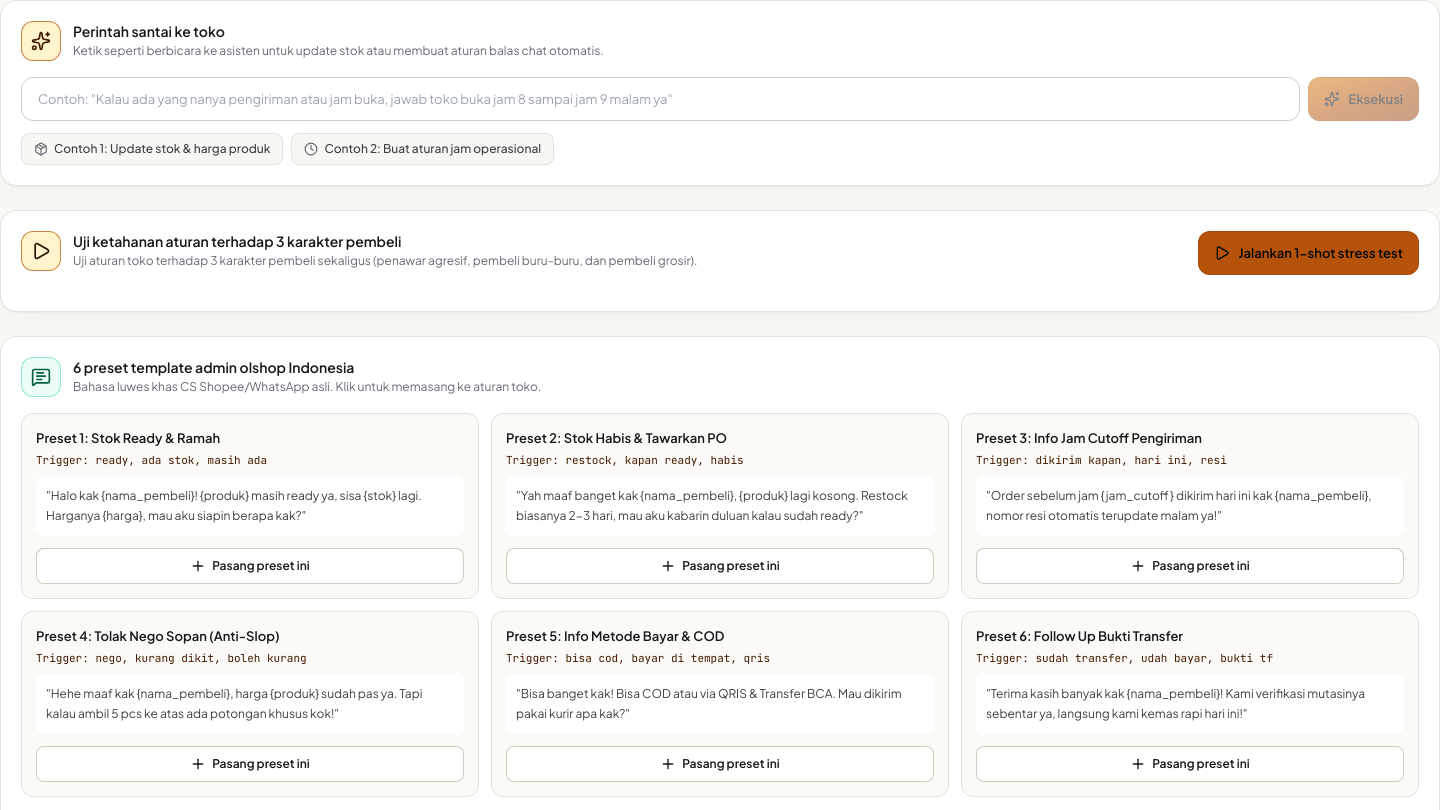
it: StoreStudio › sandbox: sukses menampilkan 3 persona
This screenshot has width=1440, height=810.
Click the button "Jalankan 1-shot stress test".
click(1309, 253)  # box [1198,231,1419,275]
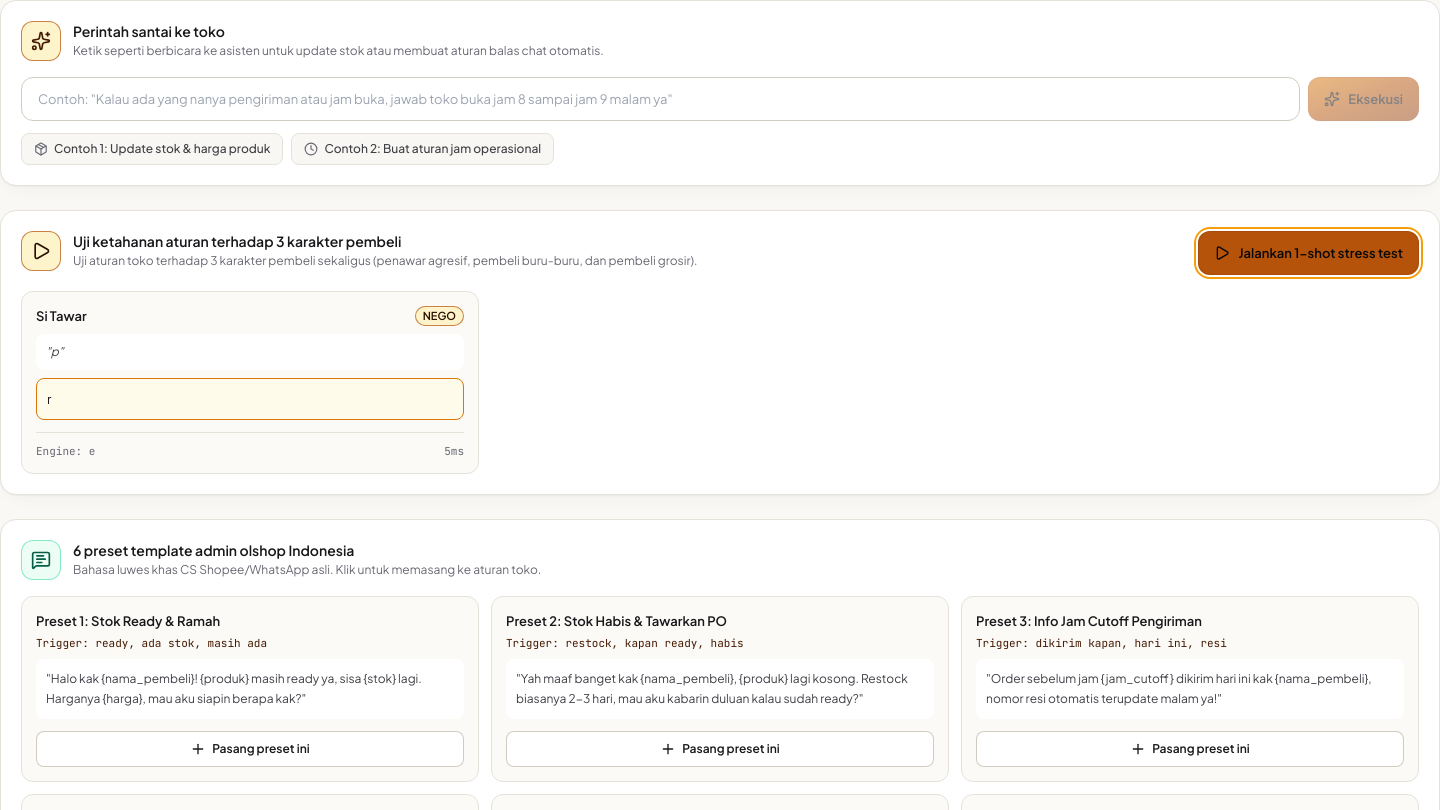
expect the text "Si Tawar" is shown: met, box [36,306,87,326]
expect the text "5ms" is shown: met, box [444,443,464,459]
